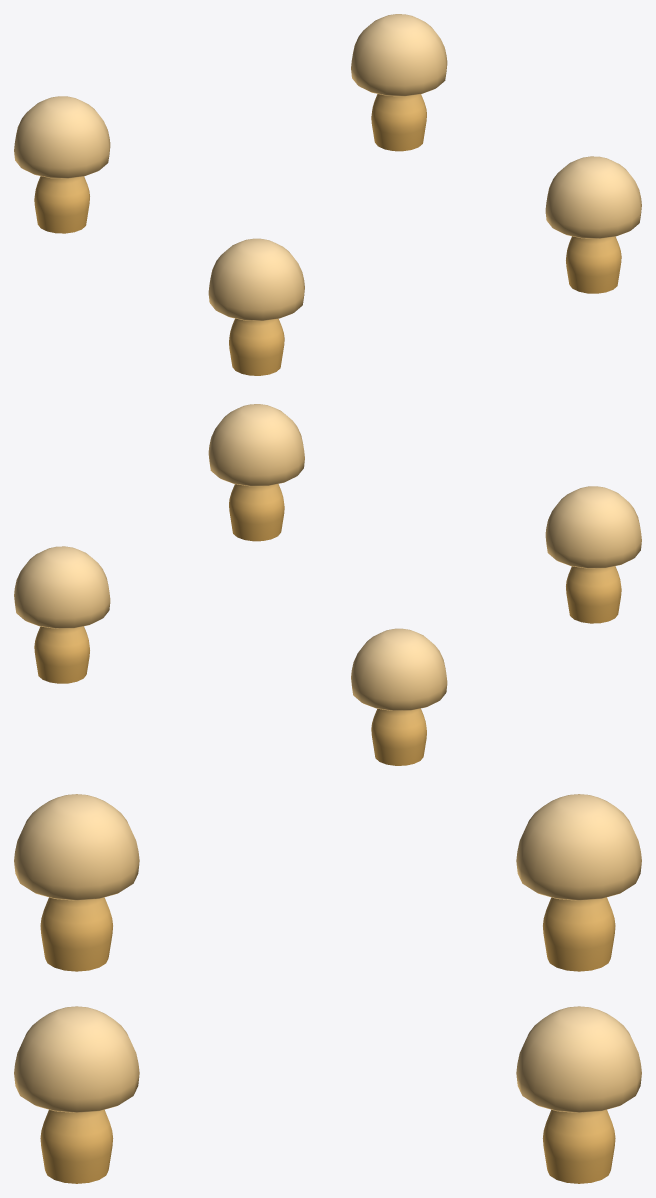
The model's file is Farm_Crop_Mashroom_02_Step_01.fbx.
The picture shows the model from 3 angles, top to bottom: view 1: azimuth 30°, elevation 25°; view 2: azimuth 150°, elevation 25°; view 3: azimuth 270°, elevation 25°; orthographic projection. The views are drawn at different scales.
Visible parts, largest first — view 1: Farm_Crop_Mashroom_02_Step_01; view 2: Farm_Crop_Mashroom_02_Step_01; view 3: Farm_Crop_Mashroom_02_Step_01.
Boxes of the visible parts, x1,y1,x2,y2 form: Farm_Crop_Mashroom_02_Step_01: (14,14,641,375); Farm_Crop_Mashroom_02_Step_01: (14,404,641,765); Farm_Crop_Mashroom_02_Step_01: (14,794,641,1183).
Size of the model in its own units: 125 by 34.54 by 125.
